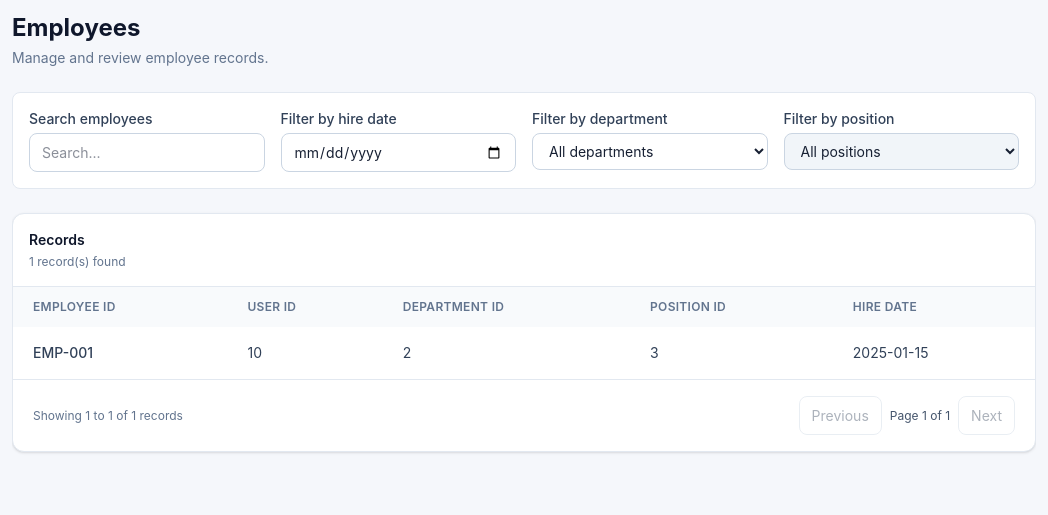
it: EmployeesPage › clears all active filters and resets pagination
Expected: the link "EMP-001" is shown, [33,344,93,361]
Type "Engineering" into the search field labelled "Search employees".
click(147, 152); type("Engineering")  # box [29,133,264,172]
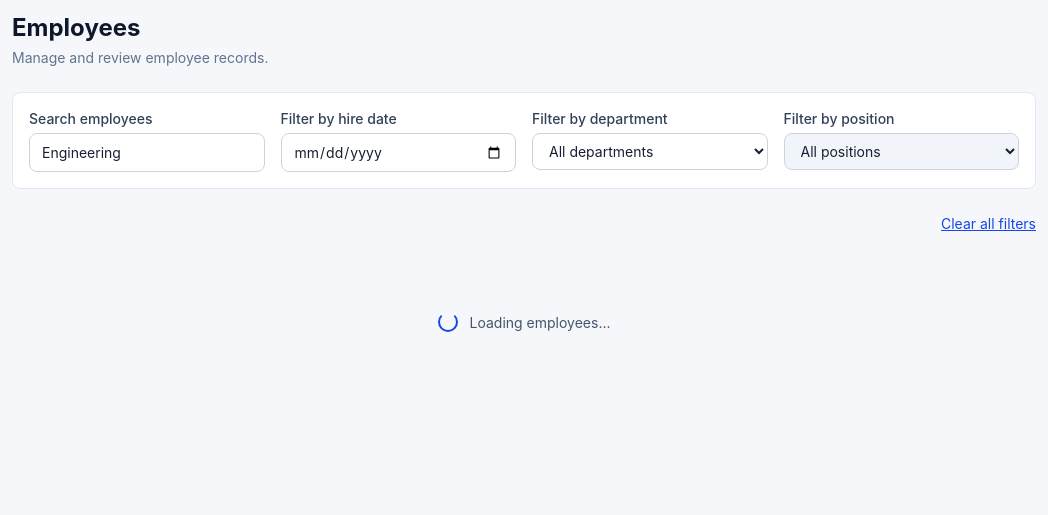
Type "2025-01-15" into the date field labelled "Filter by hire date".
click(398, 152); type("2025-01-15")  # box [280,133,516,172]
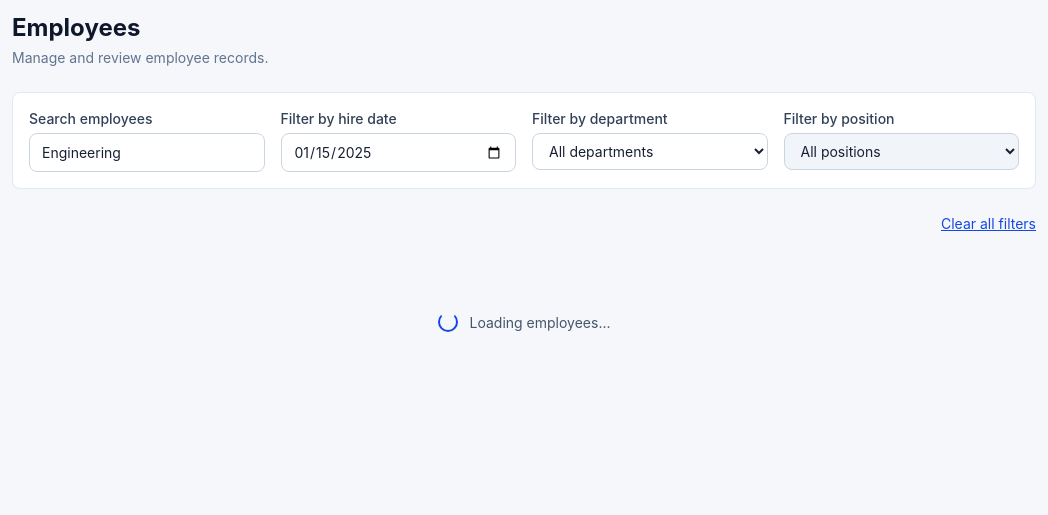
Select "Engineering" in the dropdown labelled "Filter by department" at (650, 152), box [532,133,768,170]
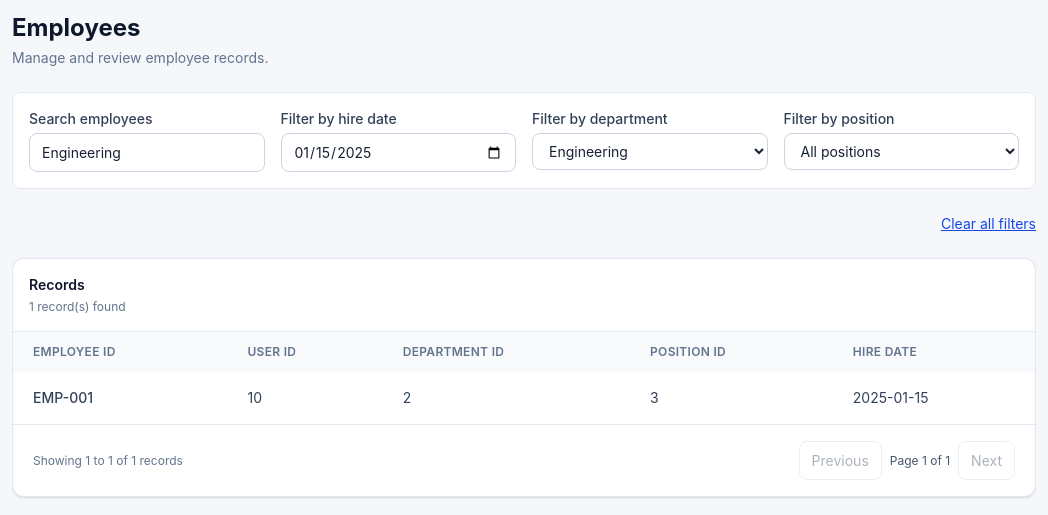
Select "Developer" in the dropdown labelled "Filter by position" at (901, 152), box [784,133,1019,170]
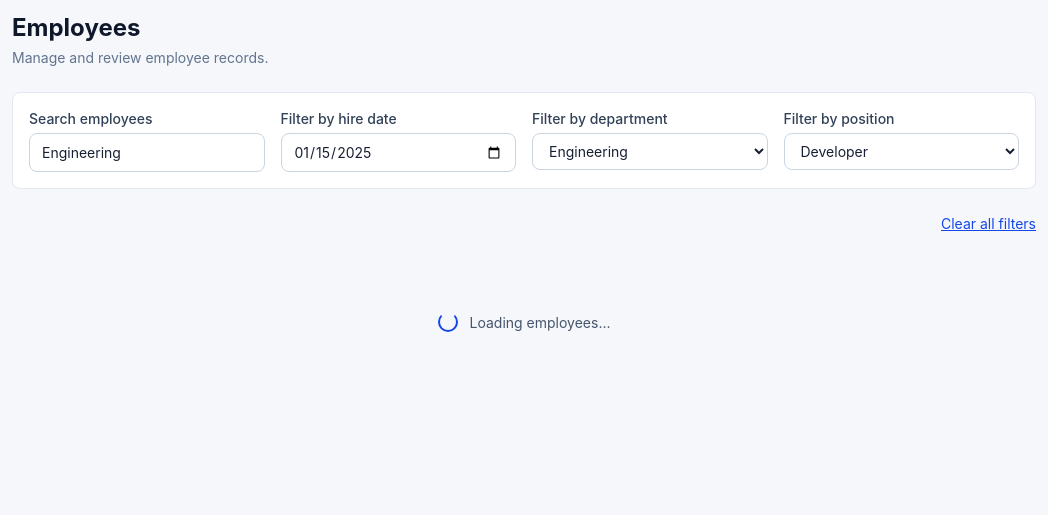
Click the button "Clear all filters".
click(988, 224)  # box [941,213,1036,234]
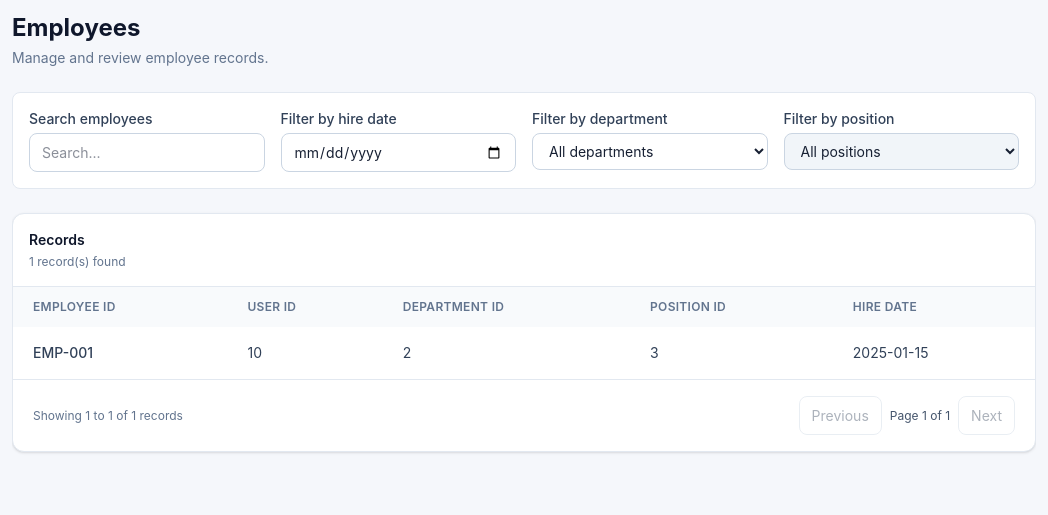
Result: the search field labelled "Search employees" is empty at [29,133,264,172]
Result: the date field labelled "Filter by hire date" is empty at [280,133,516,172]
Result: the button "Clear all filters" is gone
